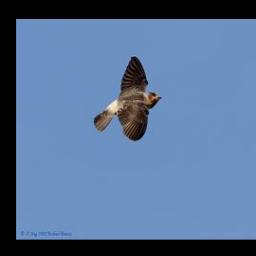Swallow: (92, 54, 164, 142)
